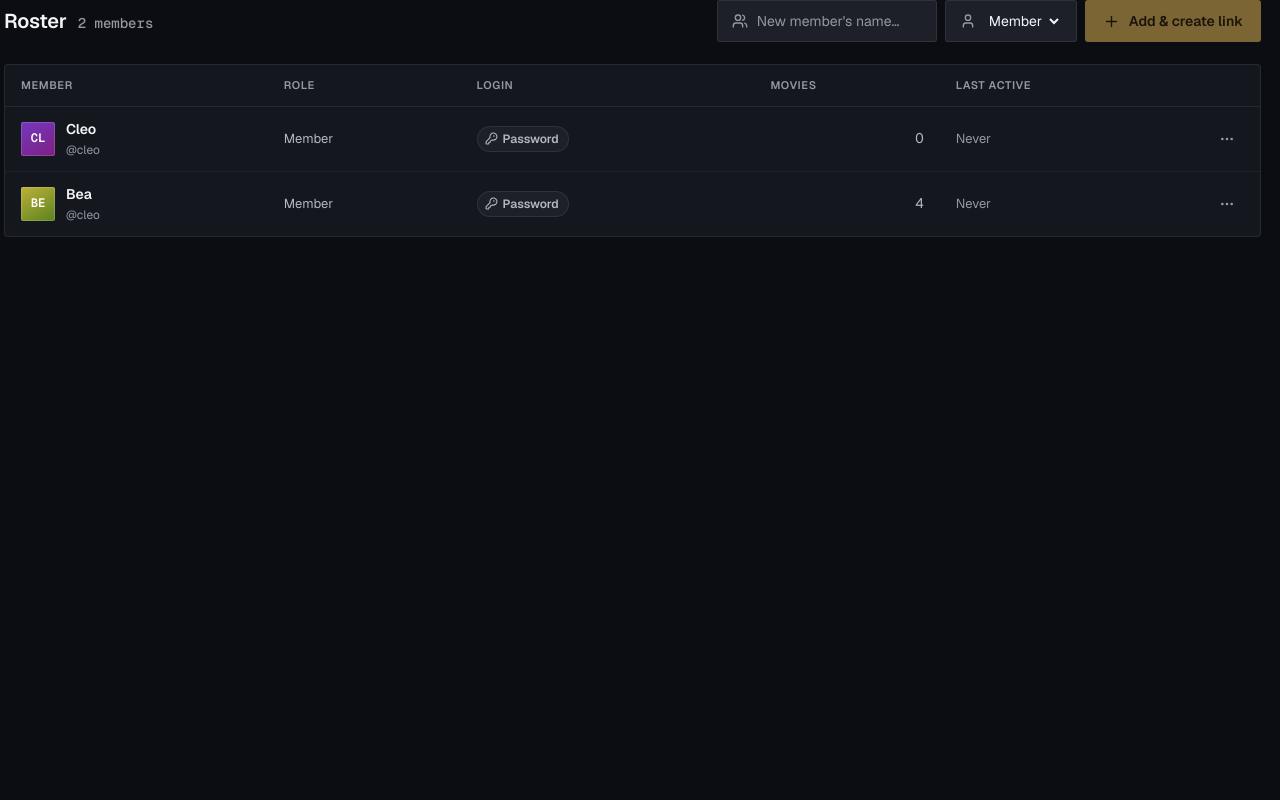
Test case: opening a ceremony from a member's row › opens the remove confirm on the member whose row it came from
Click the button named "Actions for Bea" at coordinates (1227, 204), box [1210,186,1244,220]
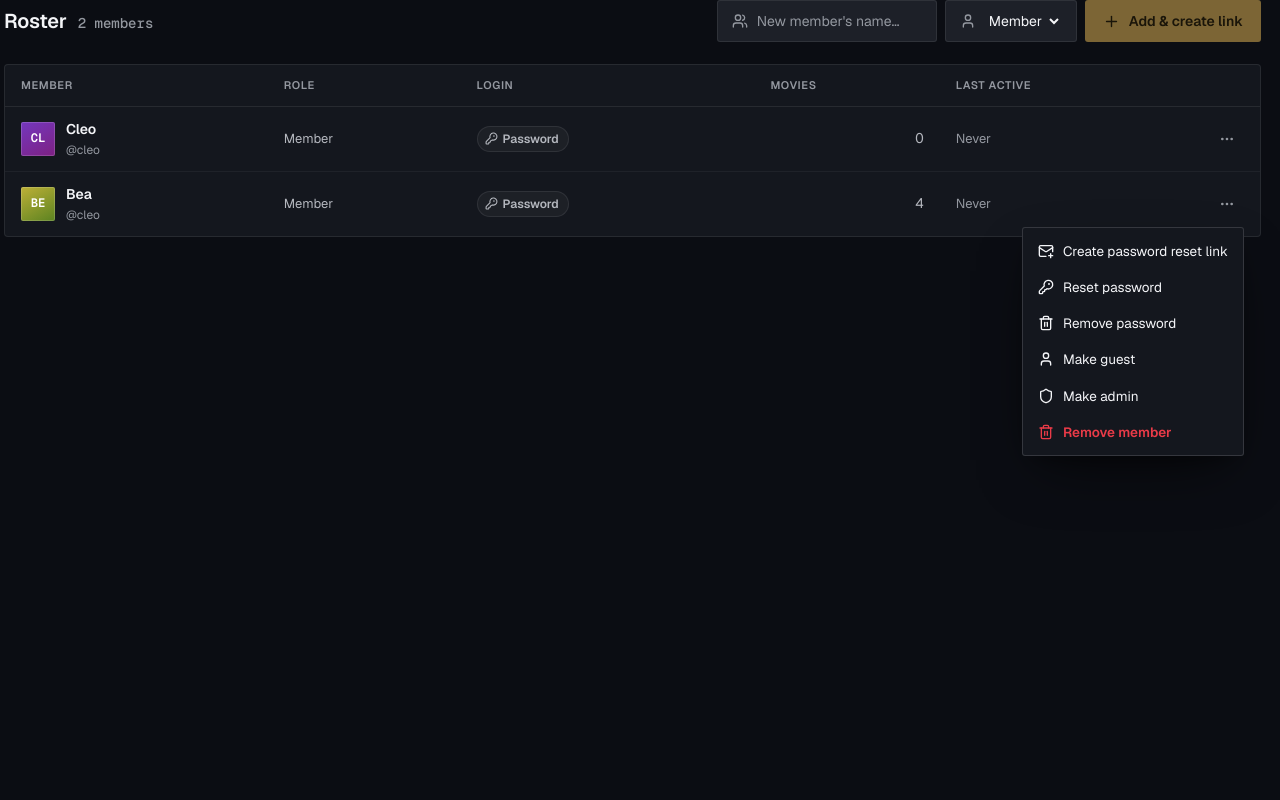
Click the menu item "Remove member" at coordinates (1133, 432), box [1028,414,1238,450]
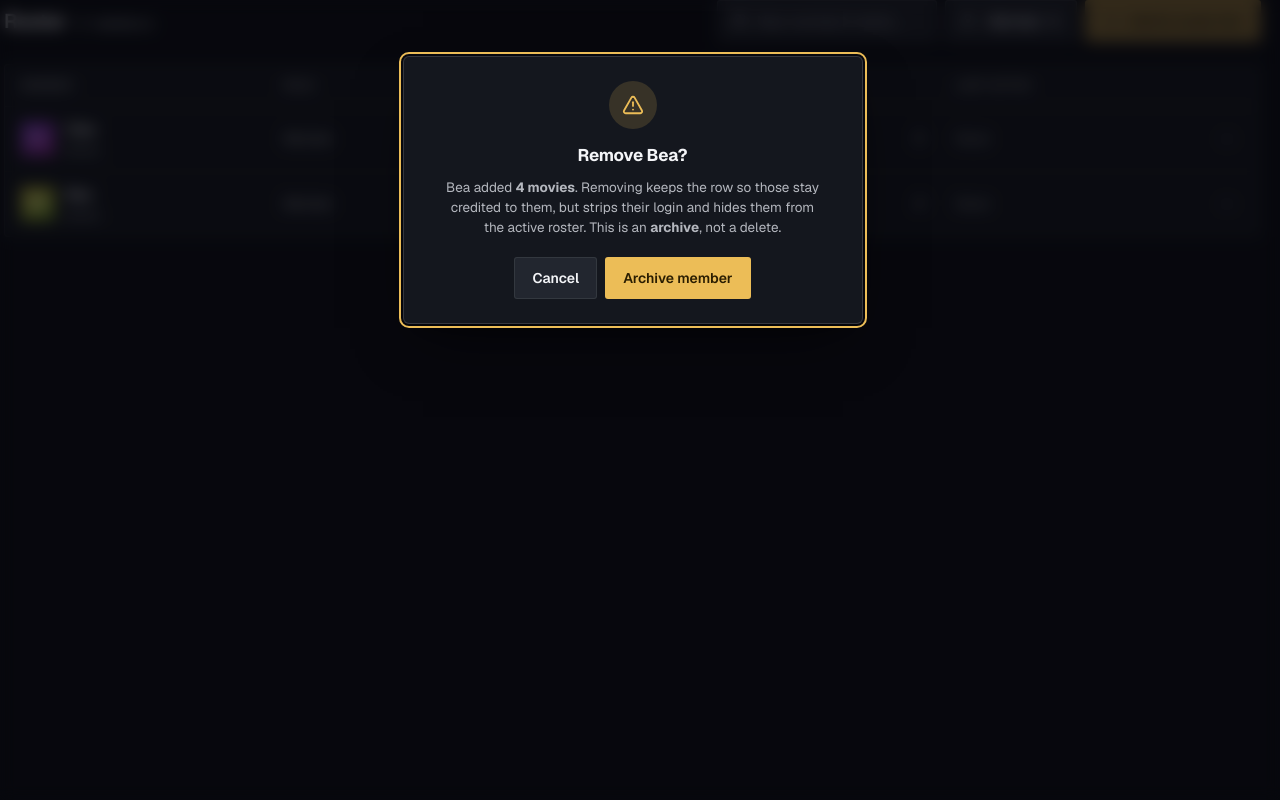
Check: the dialog does not show "Cleo"
Check: the dialog shows "Remove Bea?", box [402,56,862,324]
